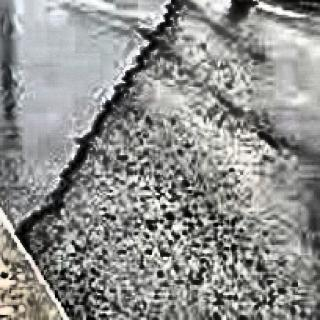crack: (18, 0, 186, 243)
